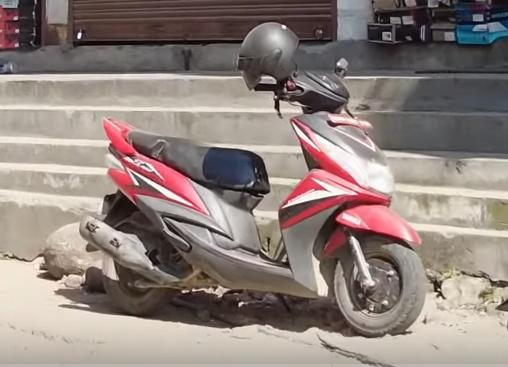scooter: (81, 61, 436, 336)
